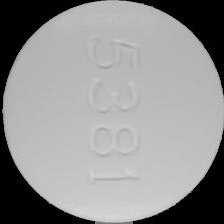0591-5381: (0, 0, 224, 224)
